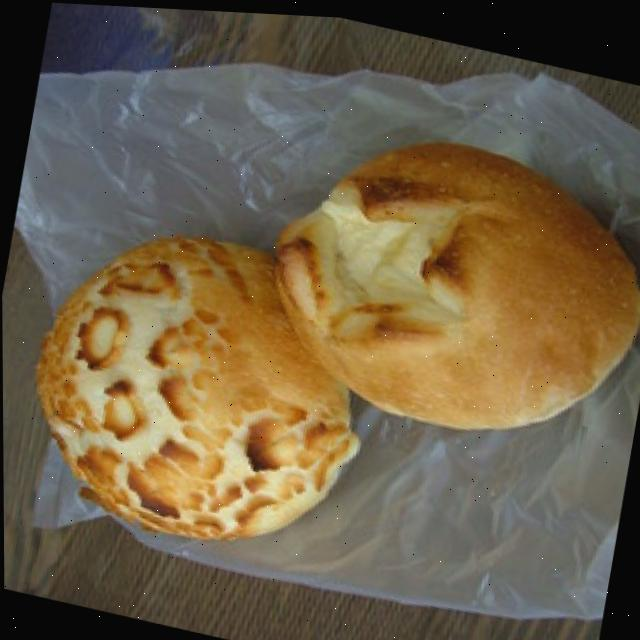三明治: (0, 25, 640, 640)
